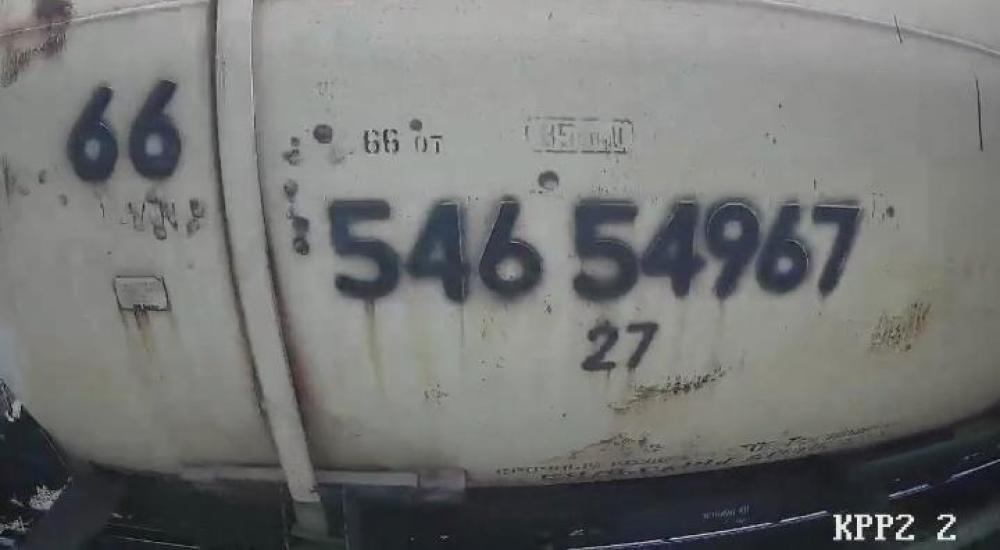Wagon-number: (324, 196, 870, 306)
